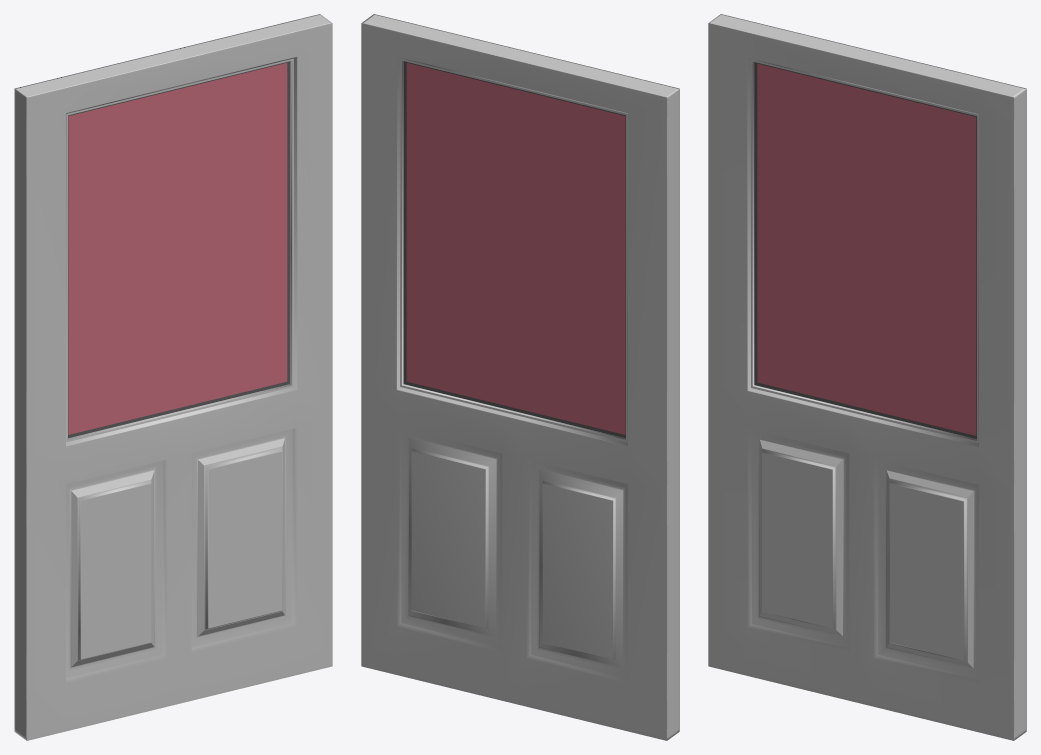
The model's file is DoorHalfGlassPanelSlab.fbx.
3 views of the same model, side by side, from view 1: azimuth 30°, elevation 25°; view 2: azimuth 150°, elevation 25°; view 3: azimuth 330°, elevation 25° (orthographic).
Parts seen in each view (by area): view 1: Door_LOD0; view 2: Door_LOD0; view 3: Door_LOD0.
Boxes of the visible parts, x1,y1,x2,y2 form: Door_LOD0: (14,14,332,740); Door_LOD0: (361,14,679,740); Door_LOD0: (708,14,1026,740).
Size of what is drawn, in the model's own units: 206 by 414 by 14.99.
